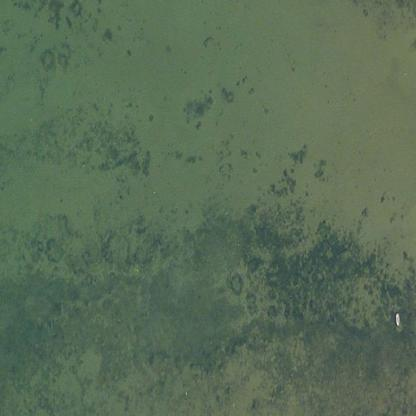ship: (394, 312, 401, 327)
